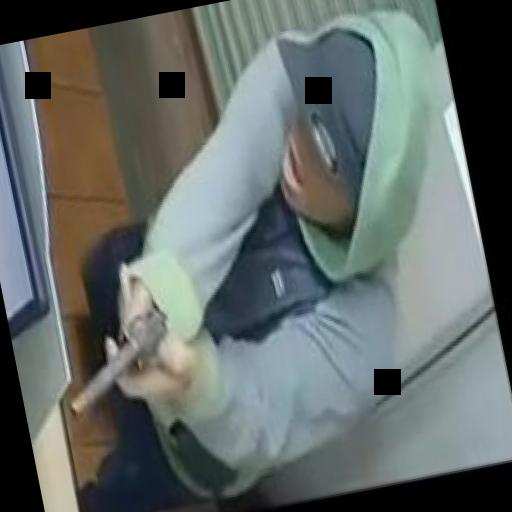Handgun: (50, 289, 190, 423)
